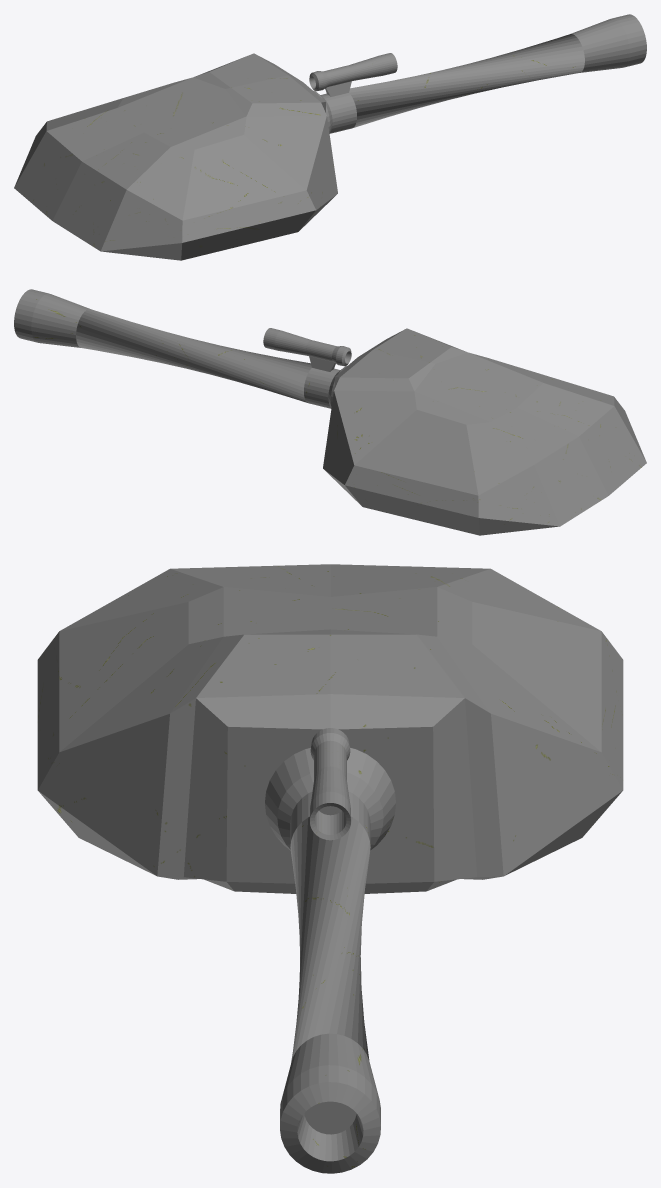
Rendered from Sniper.fbx.
The picture shows the model from 3 angles, top to bottom: view 1: azimuth 30°, elevation 25°; view 2: azimuth 150°, elevation 25°; view 3: azimuth 270°, elevation 25°; orthographic projection. The views are drawn at different scales.
Visible parts, largest first — view 1: Sniper; view 2: Sniper; view 3: Sniper.
Boxes of the visible parts, x1,y1,x2,y2 form: Sniper: (14,14,646,260); Sniper: (14,289,646,535); Sniper: (37,564,623,1173).
Size of the model in its own units: 892 by 441 by 2060.
